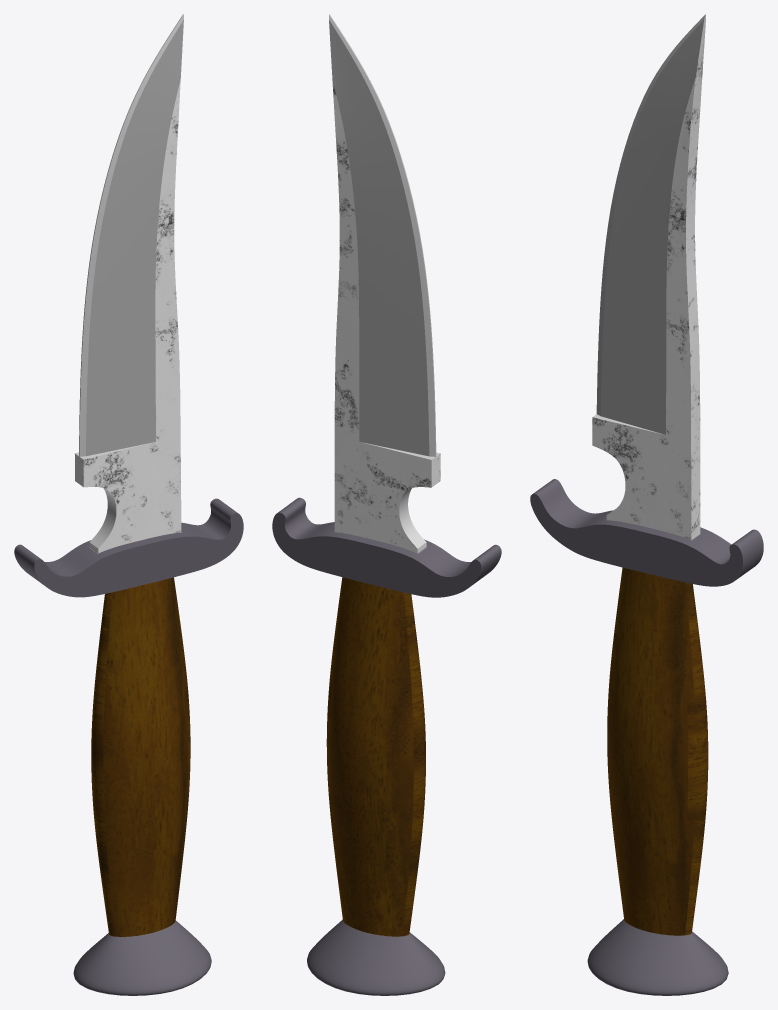
The model's file is knife.obj.
The picture shows the model from 3 angles, left to right: view 1: azimuth 30°, elevation 25°; view 2: azimuth 150°, elevation 25°; view 3: azimuth 330°, elevation 25°; orthographic projection. The views are drawn at different scales.
Parts seen in each view (by area): view 1: T_knife_hp_0; view 2: T_knife_hp_0; view 3: T_knife_hp_0.
Boxes of the visible parts, box(x1,y1,x2,y2) form: T_knife_hp_0: box(14, 14, 243, 995); T_knife_hp_0: box(272, 14, 501, 995); T_knife_hp_0: box(530, 14, 763, 995).
Bounding box in the file's own units: 2.37 × 10.26 × 1.2.
